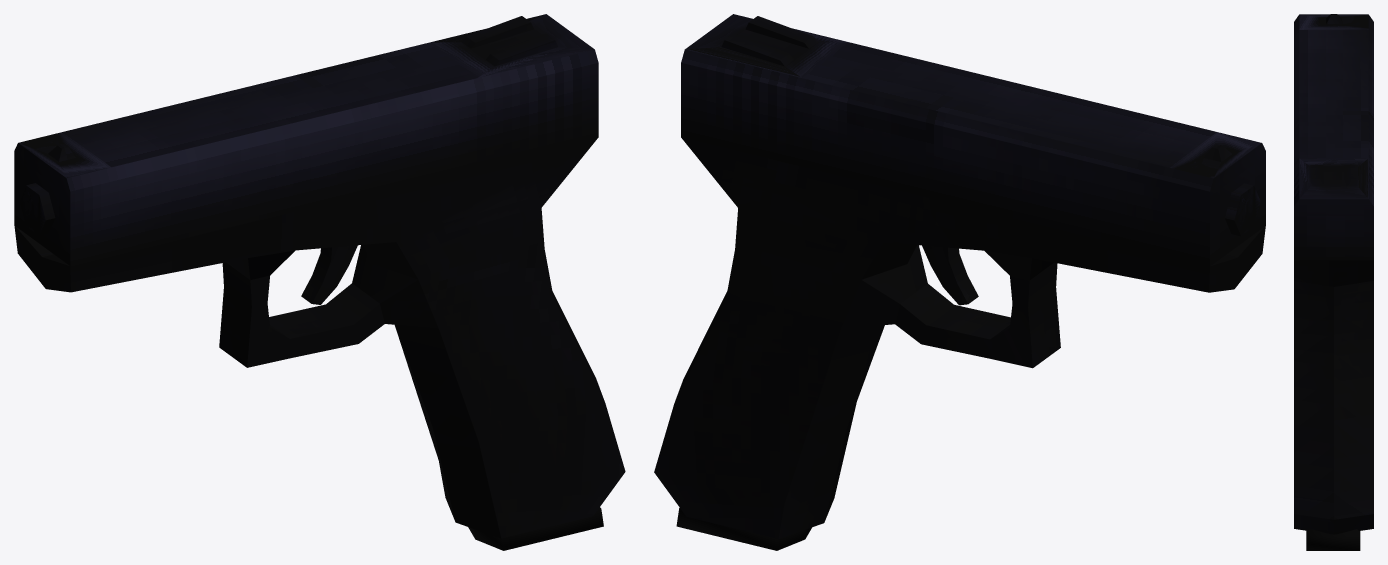
The model's file is Pistol.glb.
3 views of the same model, side by side, from view 1: azimuth 30°, elevation 25°; view 2: azimuth 150°, elevation 25°; view 3: azimuth 270°, elevation 25° (orthographic). The views are drawn at different scales.
Parts seen in each view (by area): view 1: Pistol, Pistol.Slide, Pistol.Trigger, Pistol.Mag, Pistol.Barrel; view 2: Pistol, Pistol.Slide, Pistol.Trigger, Pistol.Mag, Pistol.Barrel; view 3: Pistol, Pistol.Slide, Pistol.Mag.
Boxes of the visible parts, x1,y1,x2,y2 form: Pistol: (14, 137, 625, 538); Pistol.Slide: (14, 14, 598, 266); Pistol.Trigger: (301, 245, 357, 304); Pistol.Mag: (468, 507, 603, 550); Pistol.Barrel: (19, 183, 55, 235); Pistol: (654, 137, 1265, 538); Pistol.Slide: (681, 14, 1265, 266); Pistol.Trigger: (922, 245, 978, 305); Pistol.Mag: (676, 508, 811, 550); Pistol.Barrel: (1225, 183, 1260, 236); Pistol: (1294, 260, 1373, 534); Pistol.Slide: (1294, 14, 1373, 260); Pistol.Mag: (1306, 529, 1360, 550).
Size of the model in its own units: 1.87 by 1.53 by 0.3117.
1 material, 1 textured.
